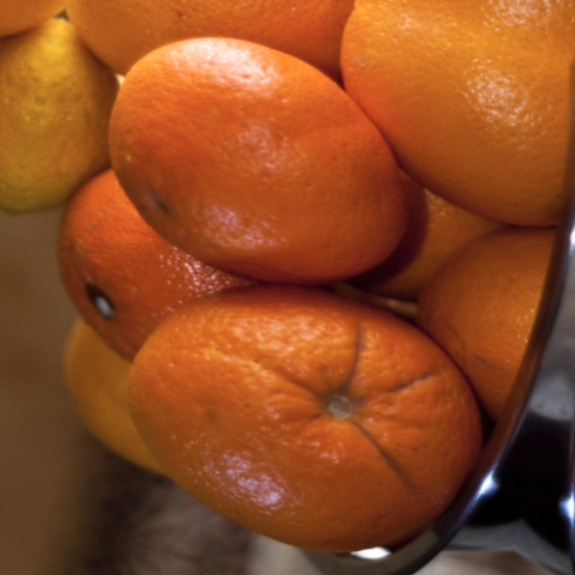orange: (84, 240, 536, 575), (13, 0, 457, 340)
